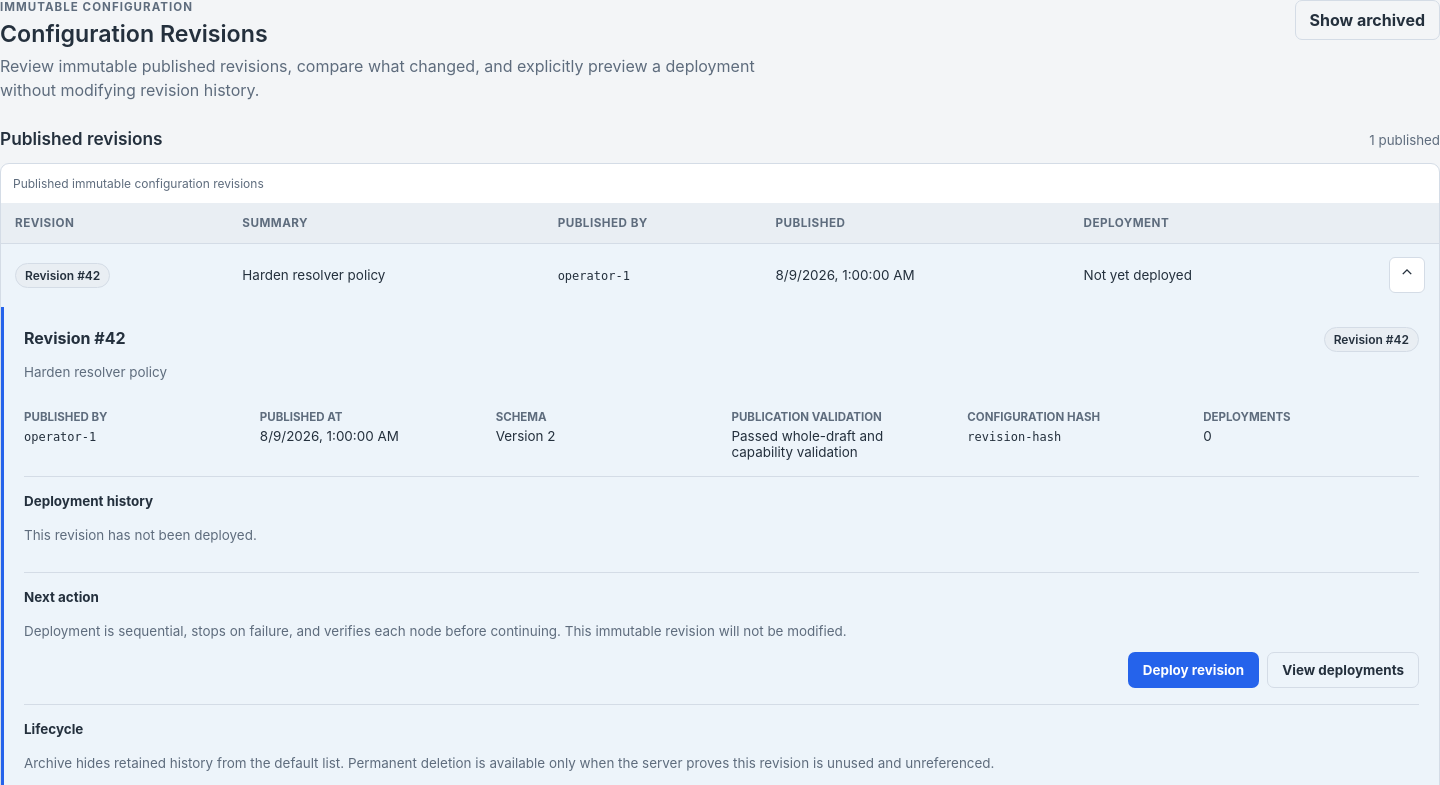
Test: revision lifecycle workflow › deep-links the exact revision inline and blocks invalid deployment previews
Click the button "Deploy revision". click: (1194, 670)
box: [1128,652,1259,688]
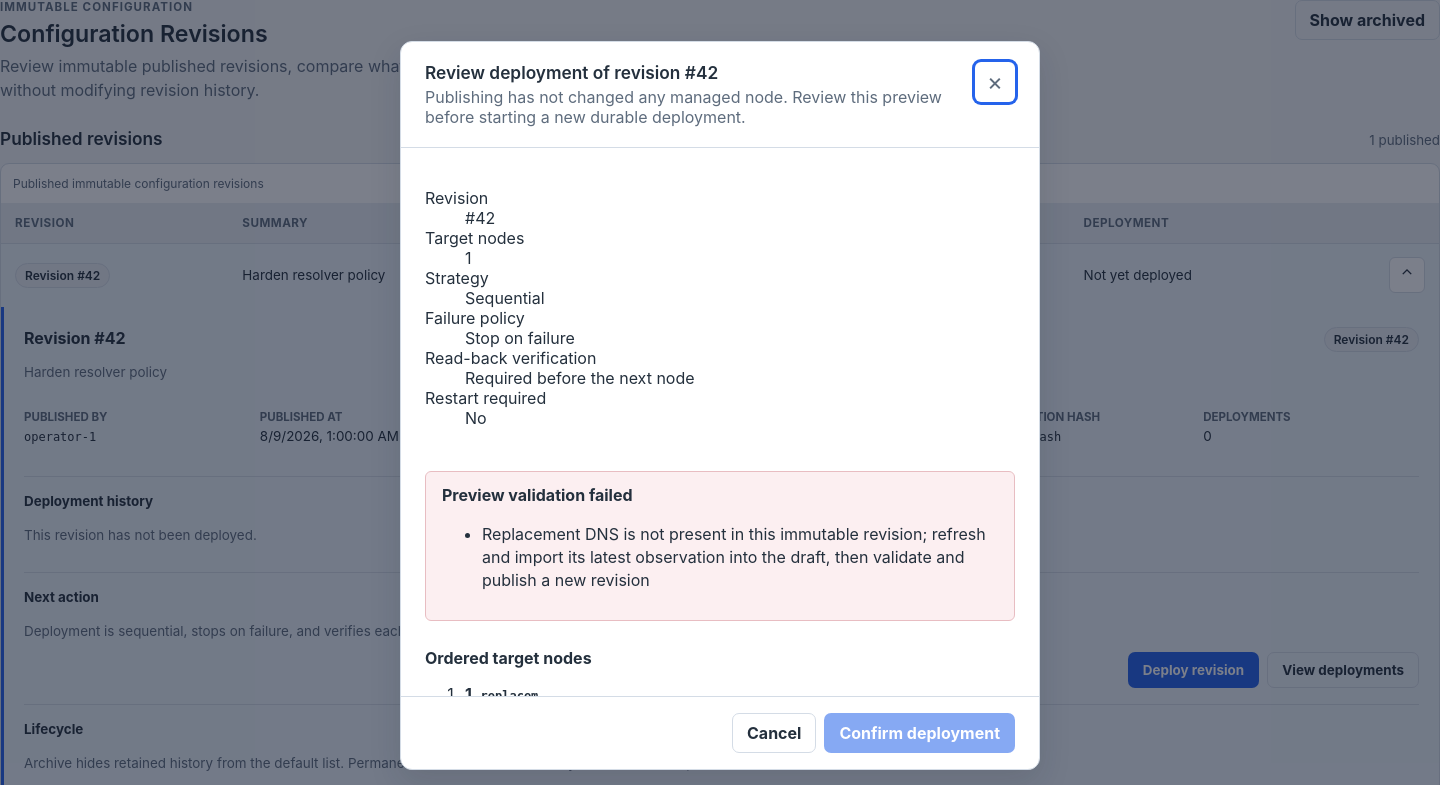
Result: the dialog "Review deployment of revision #42" is shown at [400,40,1040,770]
Result: the list item "Replacement DNS is not present in this immutable revision; refresh and import its latest observation into the draft, the" is shown at [482,524,986,590]
Result: the button "Confirm deployment" is disabled at [824,712,1015,752]
